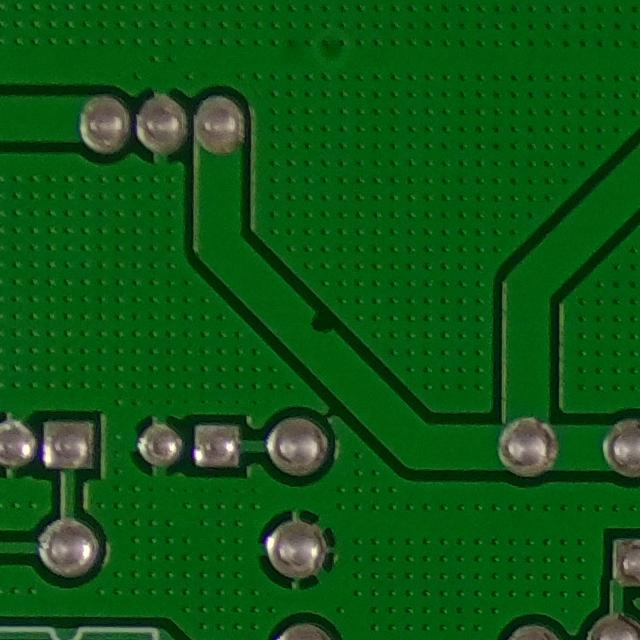mouse_bite: (290, 291, 350, 349)
